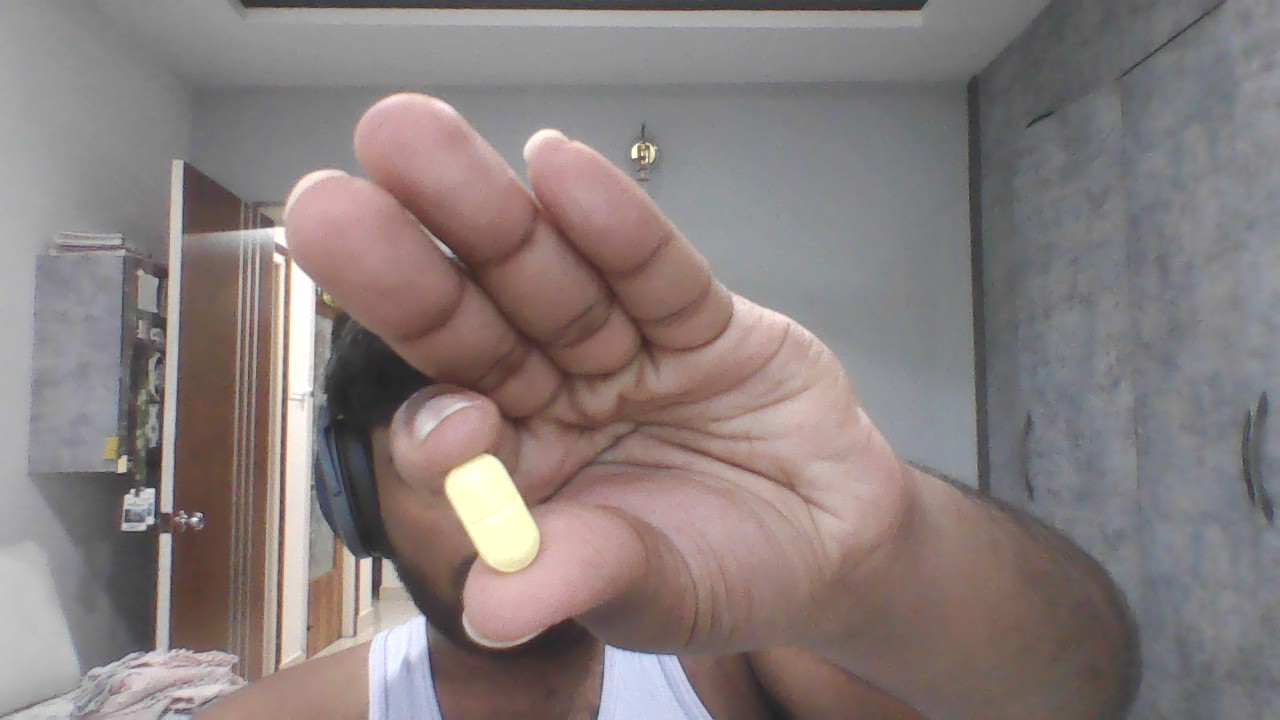Norflox TZ: (443, 467, 544, 569)
